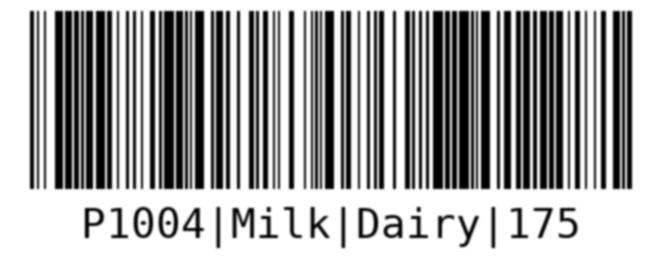milk: (26, 8, 635, 257)
